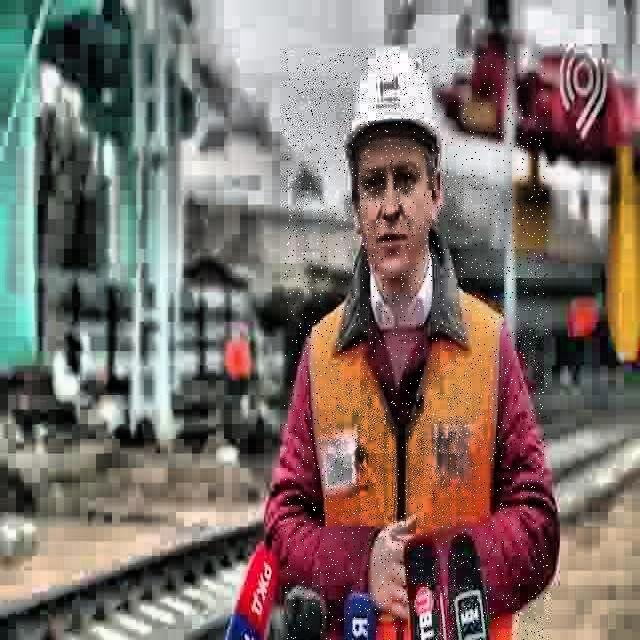safety_helmet: (344, 47, 447, 166)
safety_jacket: (307, 280, 519, 640)
